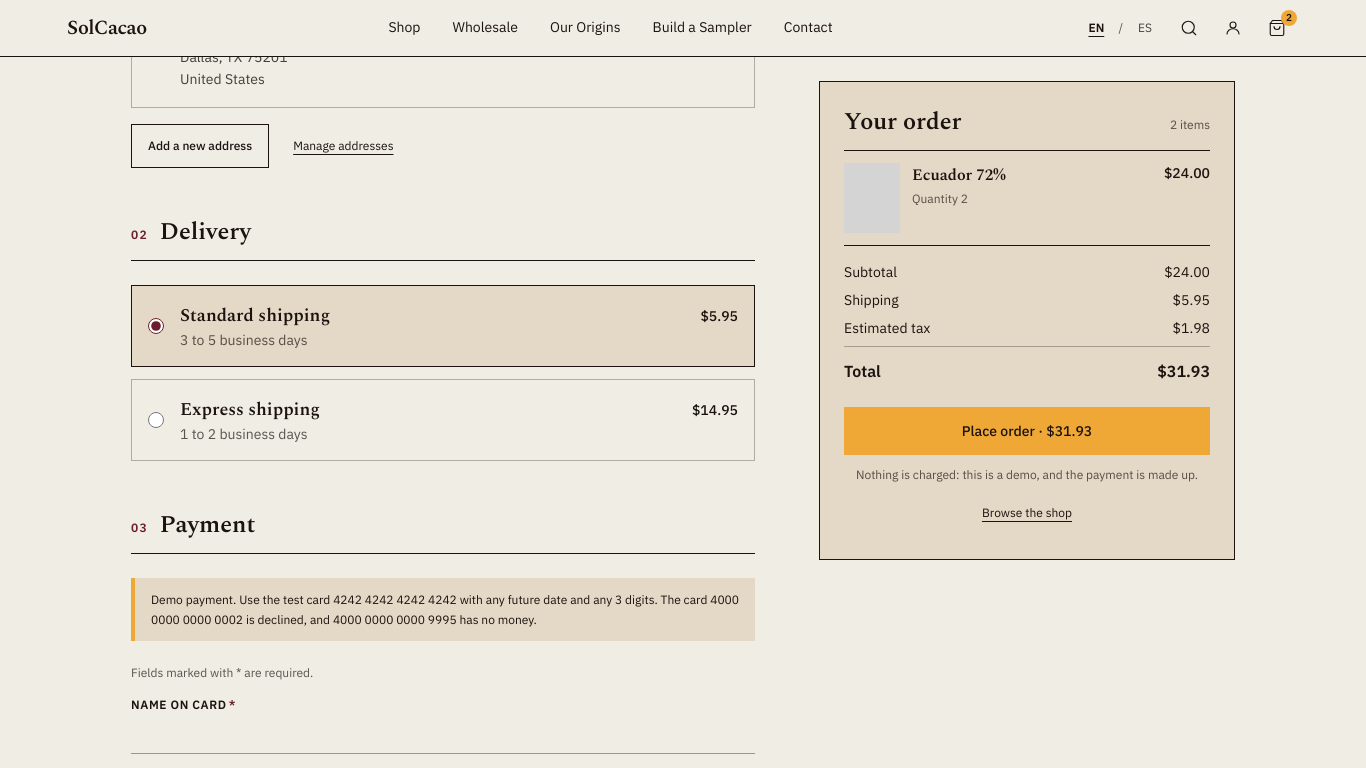
Test: the checkout: what it shows › changes the shipping and the total when express is chosen
The image size is (1366, 768).
(page scrolled)
Step 1. Click the radio button labelled "Express shipping 1 to 2 business days $14.95" → (156, 420), box x1=148 y1=412 x2=164 y2=428
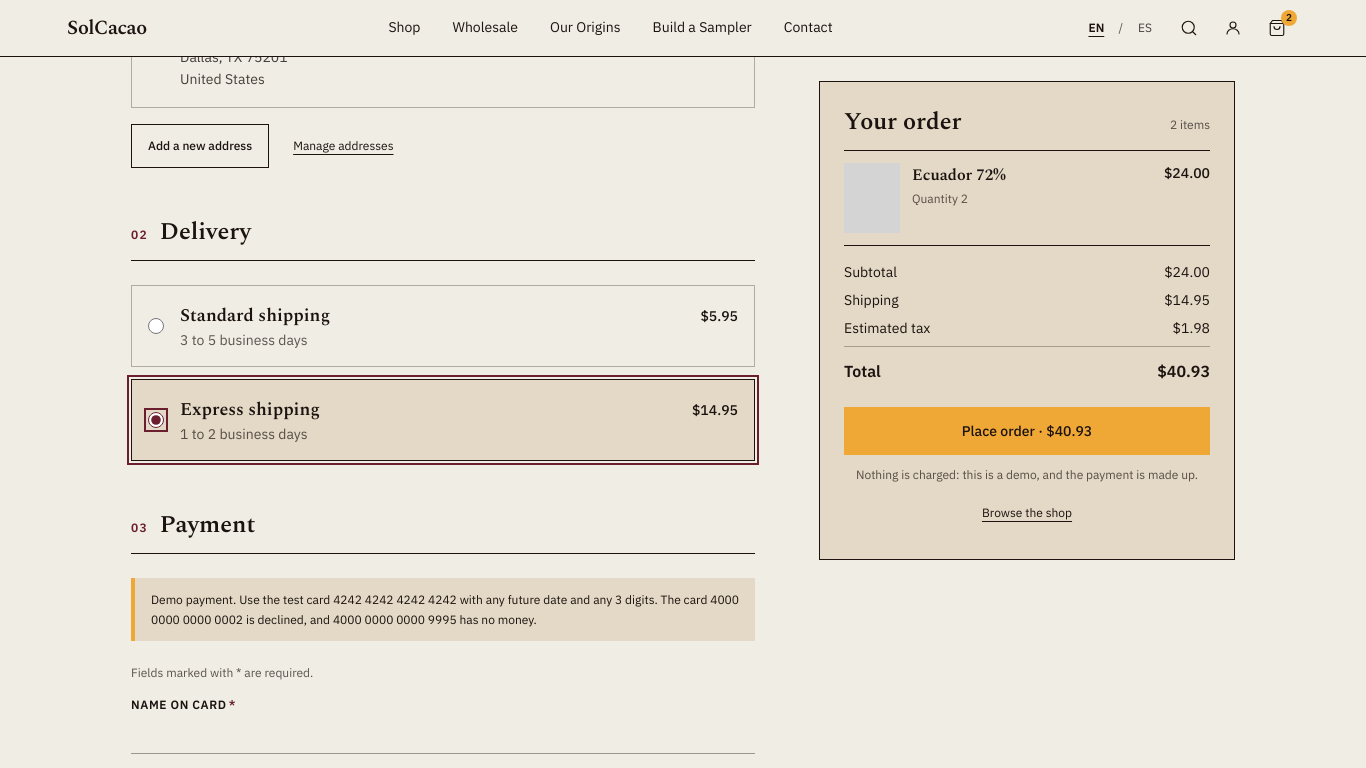
Expected: the text "$14.95" below "Quantity 2" is shown, x1=1164 y1=290 x2=1210 y2=308
